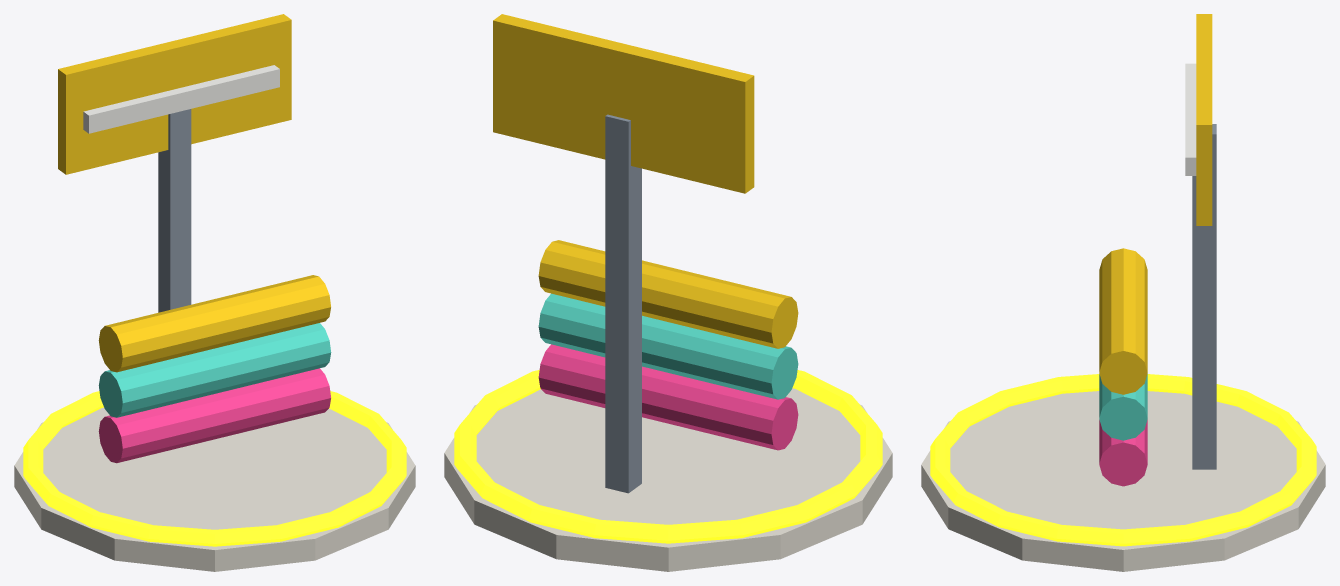
File: pickup-bumper.glb
3 views of the same model, side by side, from view 1: azimuth 30°, elevation 25°; view 2: azimuth 150°, elevation 25°; view 3: azimuth 270°, elevation 25° (orthographic). The views are drawn at different scales.
Visible parts, largest first — view 1: pickup-bumper; view 2: pickup-bumper; view 3: pickup-bumper.
Boxes of the visible parts, box(x1,y1,x2,y2) form: pickup-bumper: box(14, 14, 415, 571); pickup-bumper: box(444, 14, 892, 571); pickup-bumper: box(921, 14, 1325, 571).
Bounding box in the file's own units: 2 × 2.28 × 2.
